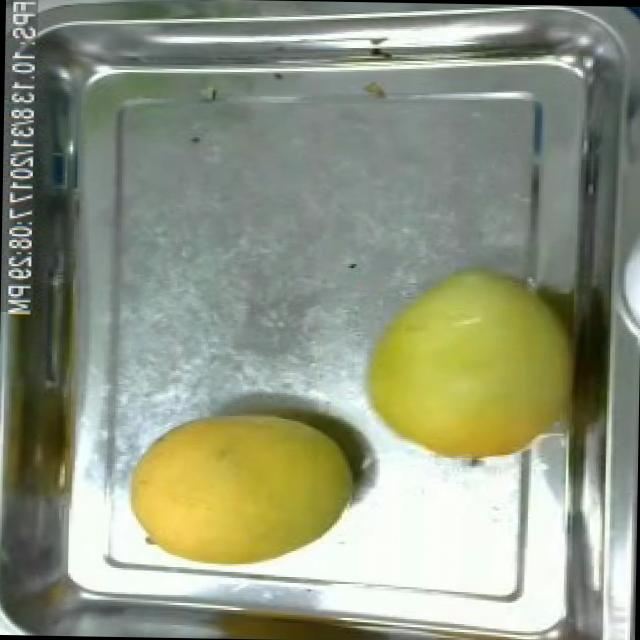fruit: (358, 251, 600, 477), (117, 394, 368, 578)
